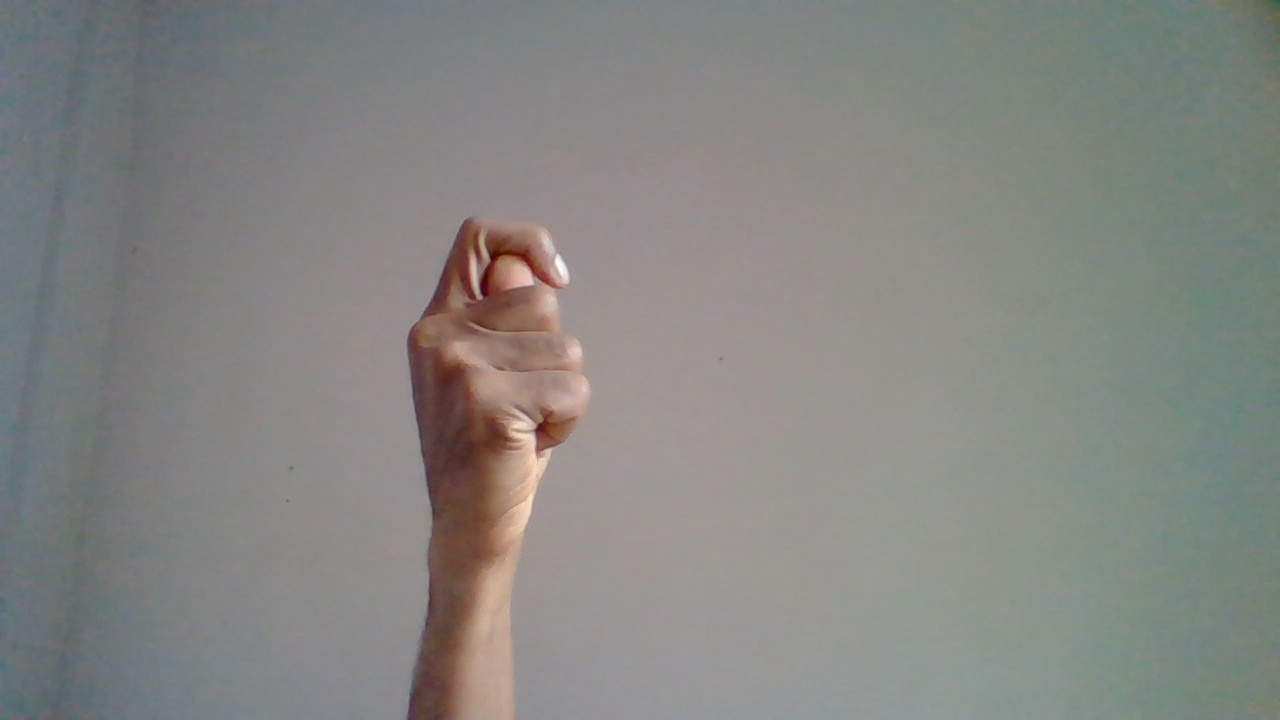che: (407, 209, 595, 677)
